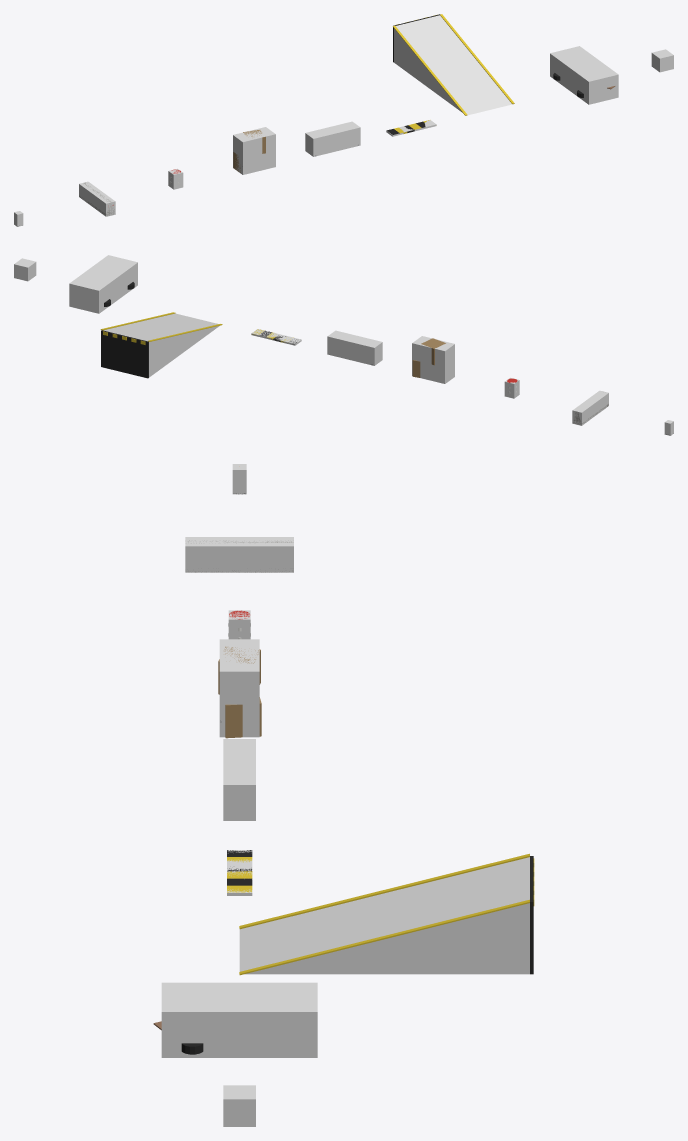
The model's file is PR_RoadObstacles.glb.
3 views of the same model, one above another, from view 1: azimuth 30°, elevation 25°; view 2: azimuth 150°, elevation 25°; view 3: azimuth 270°, elevation 25° (orthographic). The views are drawn at different scales.
Parts seen in each view (by area): view 1: COL_JumpRamp, COL_BrokenCar, COL_CrateStack, COL_RoadBlock, PR_JumpRamp, COL_JerseyBarrier, COL_TireStack; view 2: COL_JumpRamp, COL_BrokenCar, PR_JumpRamp, COL_CrateStack, COL_RoadBlock, COL_JerseyBarrier, COL_TireStack, COL_SpeedBump, PR_CrateStack; view 3: COL_JumpRamp, COL_BrokenCar, COL_JerseyBarrier, COL_CrateStack, PR_JumpRamp, COL_RoadBlock, COL_TireStack, PR_CrateStack.
Part boxes in pixels (x1=…): COL_JumpRamp: x1=394, y1=15, x2=512, y2=115; COL_BrokenCar: x1=550, y1=46, x2=618, y2=104; COL_CrateStack: x1=233, y1=127, x2=275, y2=174; COL_RoadBlock: x1=305, y1=121, x2=360, y2=156; PR_JumpRamp: x1=393, y1=14, x2=514, y2=115; COL_JerseyBarrier: x1=79, y1=181, x2=115, y2=216; COL_TireStack: x1=651, y1=49, x2=673, y2=72; COL_JumpRamp: x1=103, y1=313, x2=219, y2=377; COL_BrokenCar: x1=69, y1=255, x2=137, y2=313; PR_JumpRamp: x1=100, y1=312, x2=222, y2=378; COL_CrateStack: x1=412, y1=336, x2=454, y2=383; COL_RoadBlock: x1=327, y1=330, x2=382, y2=365; COL_JerseyBarrier: x1=572, y1=390, x2=608, y2=425; COL_TireStack: x1=14, y1=258, x2=36, y2=281; COL_SpeedBump: x1=251, y1=329, x2=301, y2=345; PR_CrateStack: x1=412, y1=338, x2=445, y2=377; COL_JumpRamp: x1=239, y1=857, x2=529, y2=974; COL_BrokenCar: x1=161, y1=982, x2=317, y2=1057; COL_JerseyBarrier: x1=185, y1=537, x2=293, y2=572; COL_CrateStack: x1=219, y1=639, x2=259, y2=737; PR_JumpRamp: x1=239, y1=853, x2=534, y2=975; COL_RoadBlock: x1=223, y1=739, x2=255, y2=820; COL_TireStack: x1=223, y1=1085, x2=255, y2=1126; PR_CrateStack: x1=218, y1=646, x2=261, y2=738.
Bounding box in the file's own units: 41.64 × 2.24 × 10.49.
